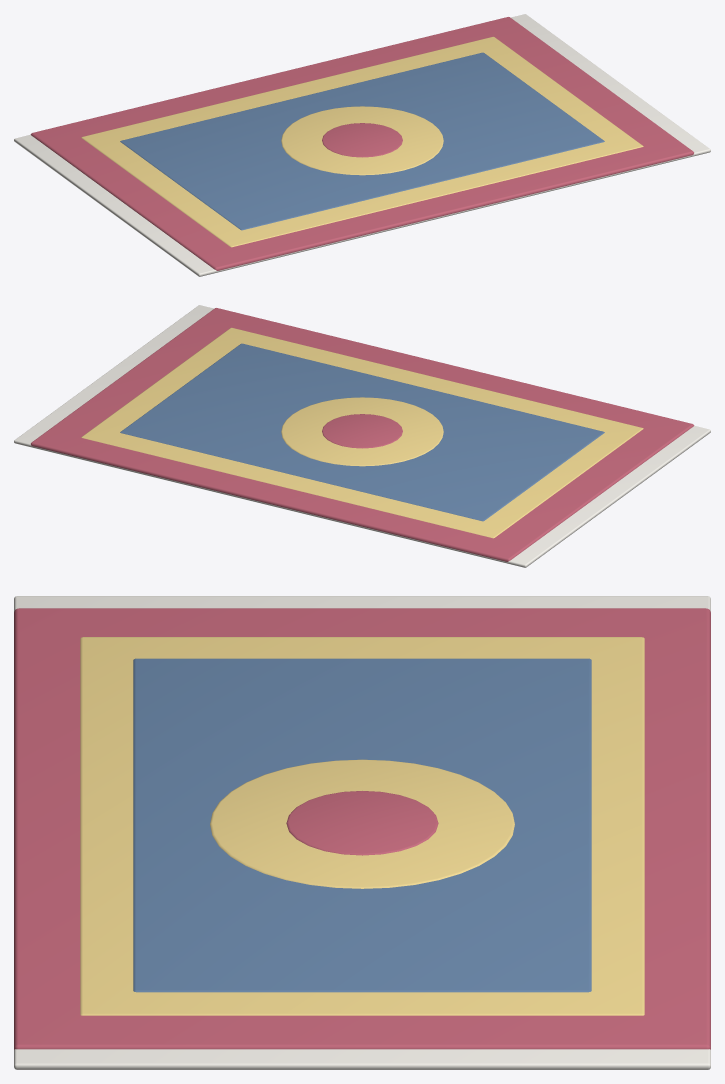
Rendered from SM_Rug.fbx.
3 renders of one model, top to bottom at view 1: azimuth 30°, elevation 25°; view 2: azimuth 150°, elevation 25°; view 3: azimuth 270°, elevation 25°, orthographic. The views are drawn at different scales.
Visible parts, largest first — view 1: SM_Rug; view 2: SM_Rug; view 3: SM_Rug.
Part boxes in pixels (x1=…): SM_Rug: x1=14, y1=14, x2=710, y2=276; SM_Rug: x1=14, y1=305, x2=710, y2=567; SM_Rug: x1=14, y1=596, x2=710, y2=1069.
Size of the model in its own units: 188 by 2.6 by 118.
